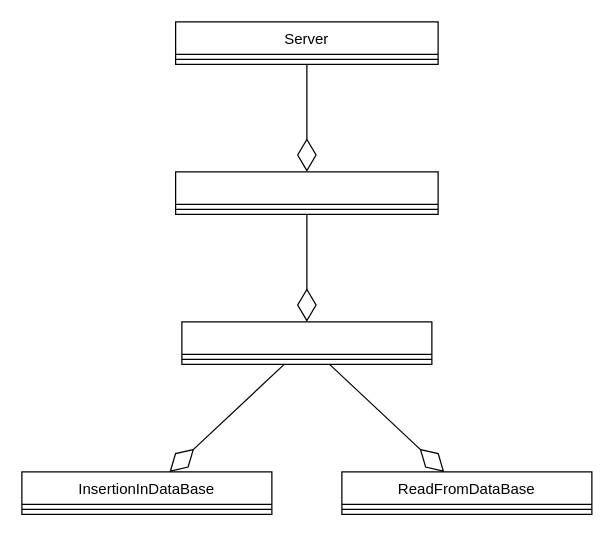
Image size: 614x536. Some labels were removed from this diagram. Each missing label, with the centre of its shape:
DataBaseRequestDispatcher: the point at 306,342
ServerRequestDispatcher: the point at 306,192
